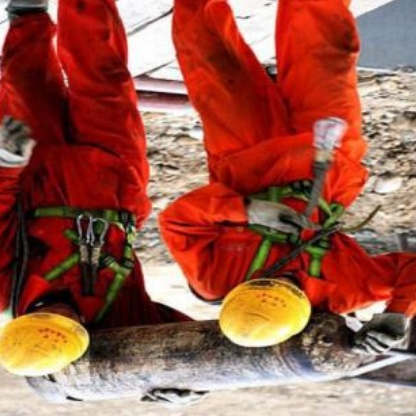vest: (203, 160, 391, 298), (0, 184, 164, 310)
yellow: (197, 274, 321, 350), (0, 308, 98, 380)
